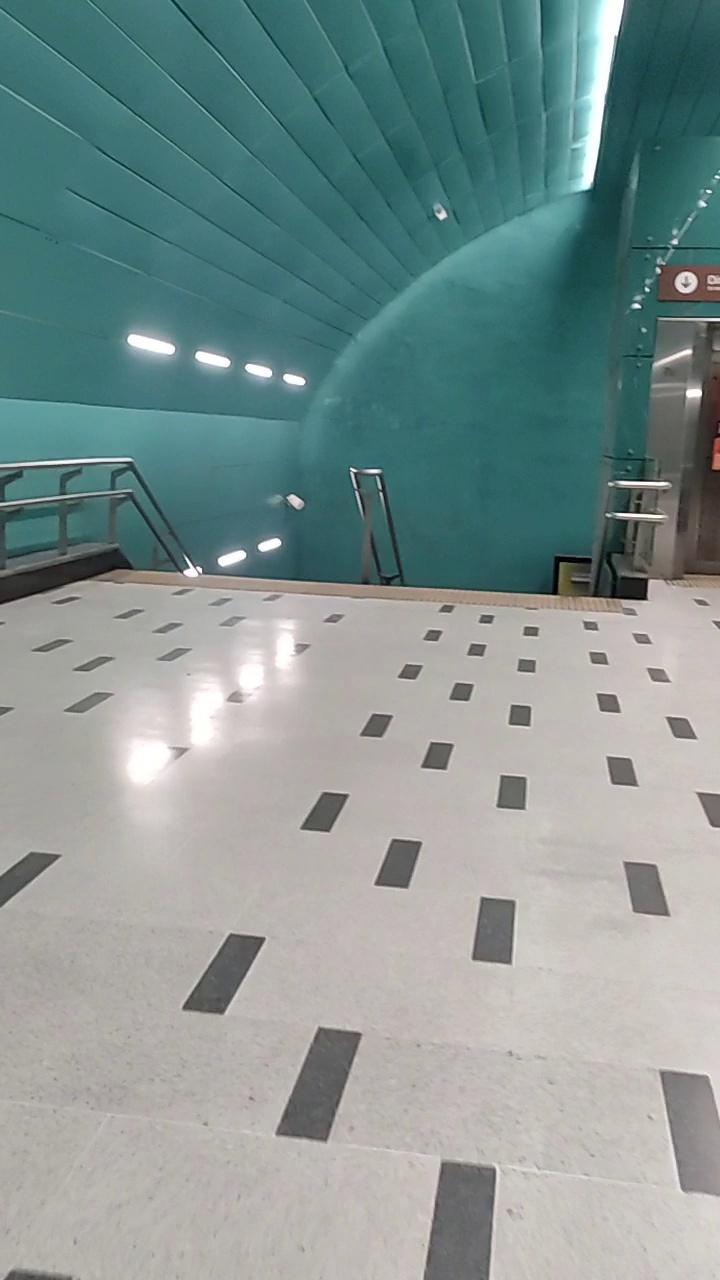down arrow: (676, 268, 698, 294)
